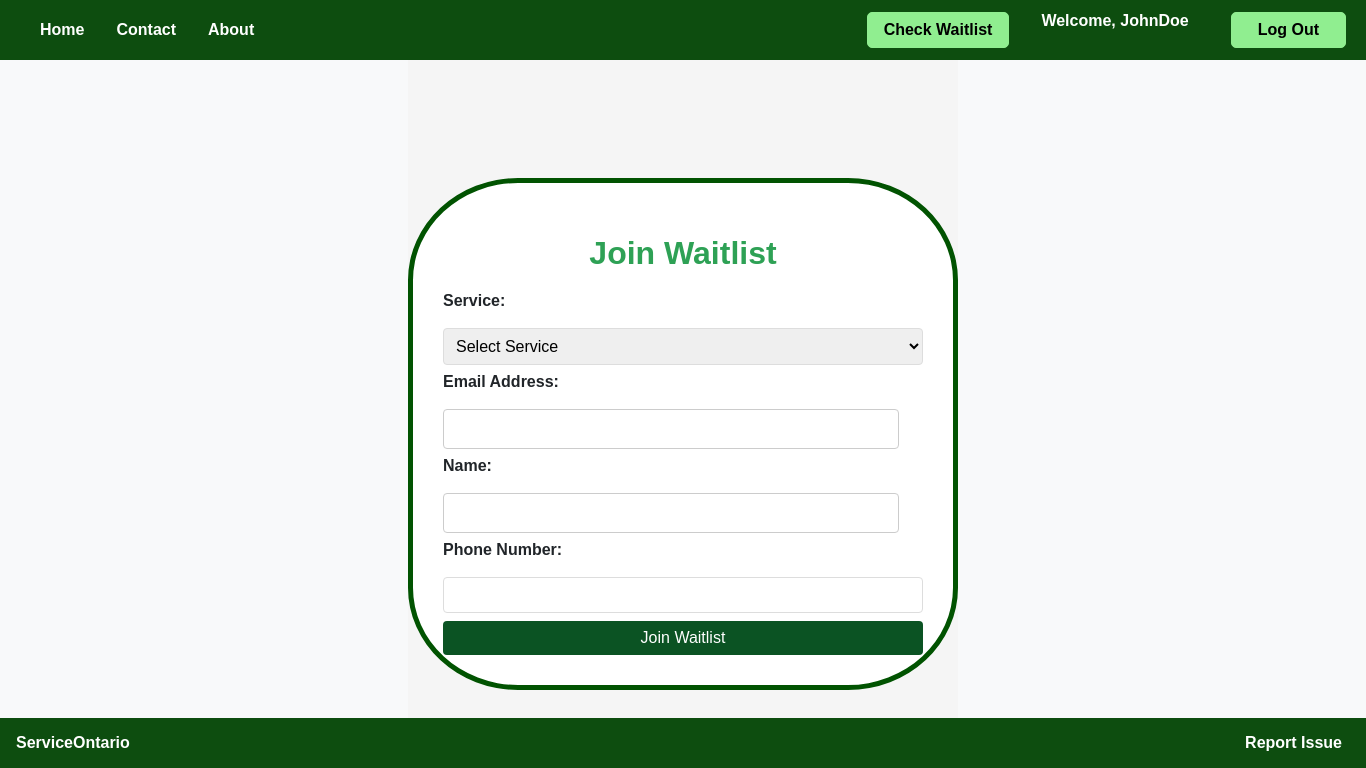
Test: JoinWaitList Component › handles failed submission and displays error message
Select "Health Card Renewal" in the dropdown labelled "Service:" at (683, 346), box x1=443 y1=328 x2=923 y2=365
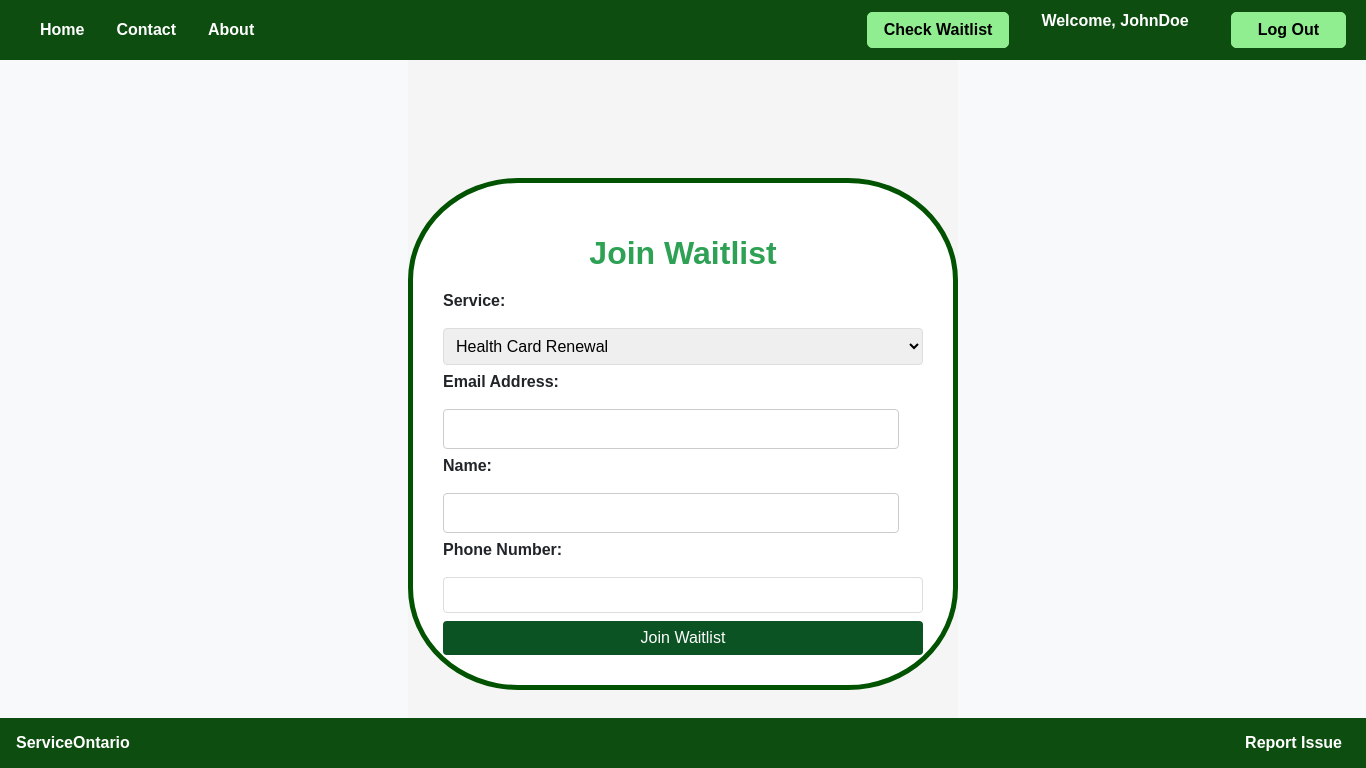
Type "test@example.com" into the field labelled "Email Address:" at (671, 429), box x1=443 y1=409 x2=899 y2=449
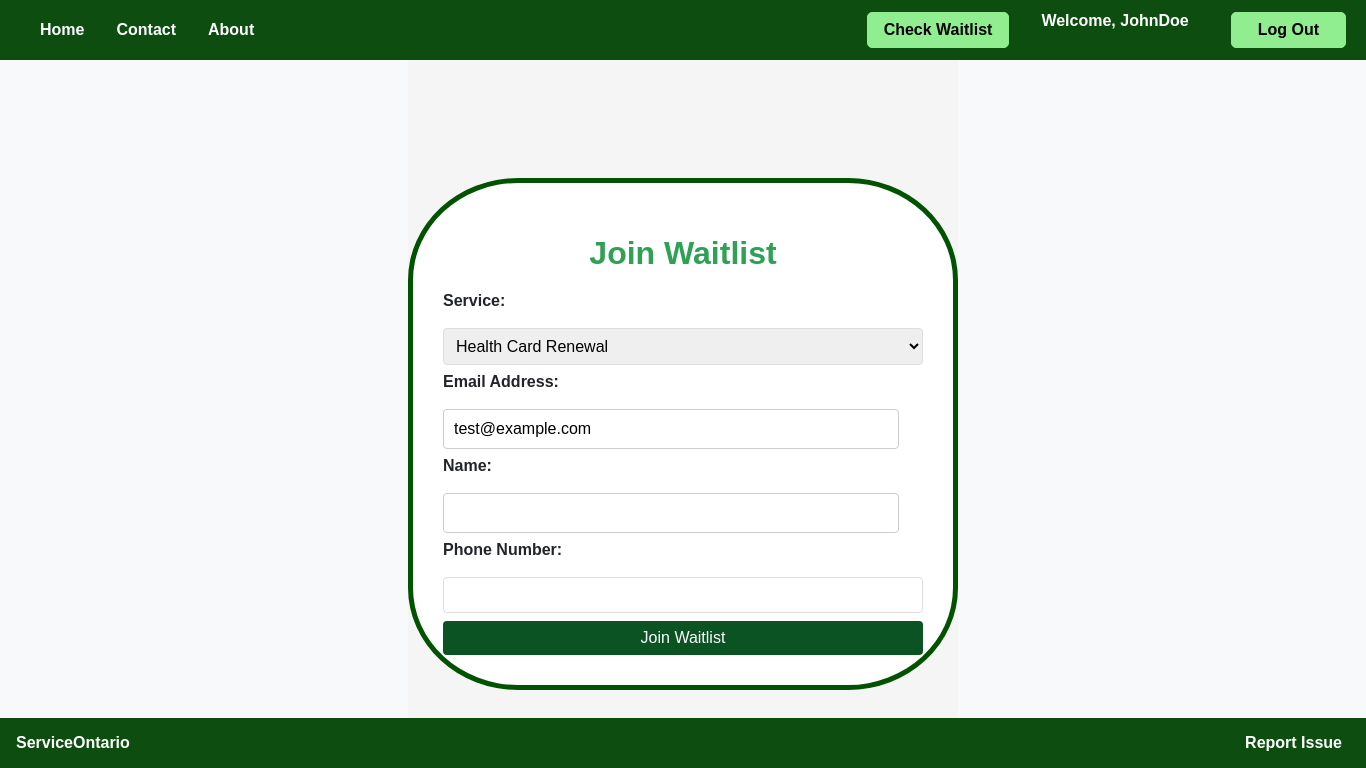
Type "John Doe" into the field labelled "Name:" at (671, 513), box x1=443 y1=493 x2=899 y2=533
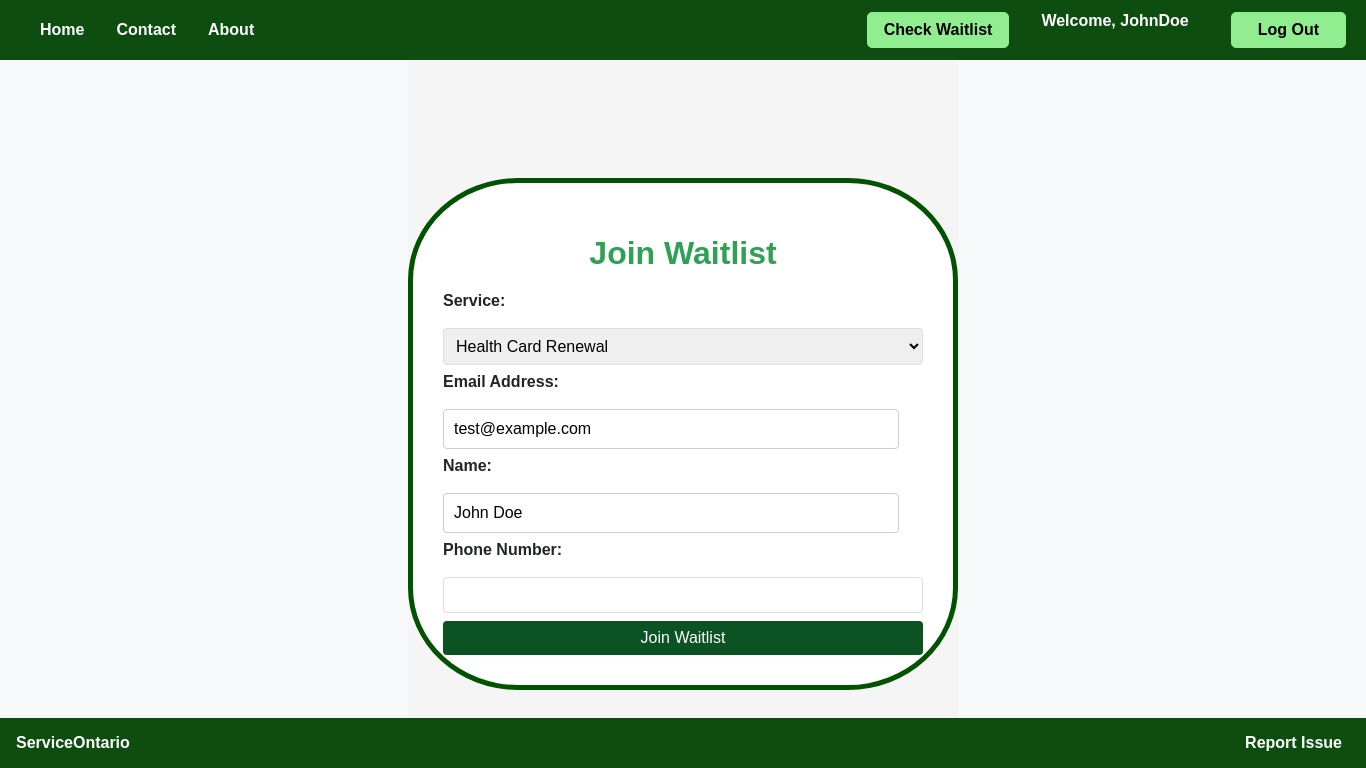
Type "1234567890" into the field labelled "Phone Number:" at (683, 595), box x1=443 y1=577 x2=923 y2=613
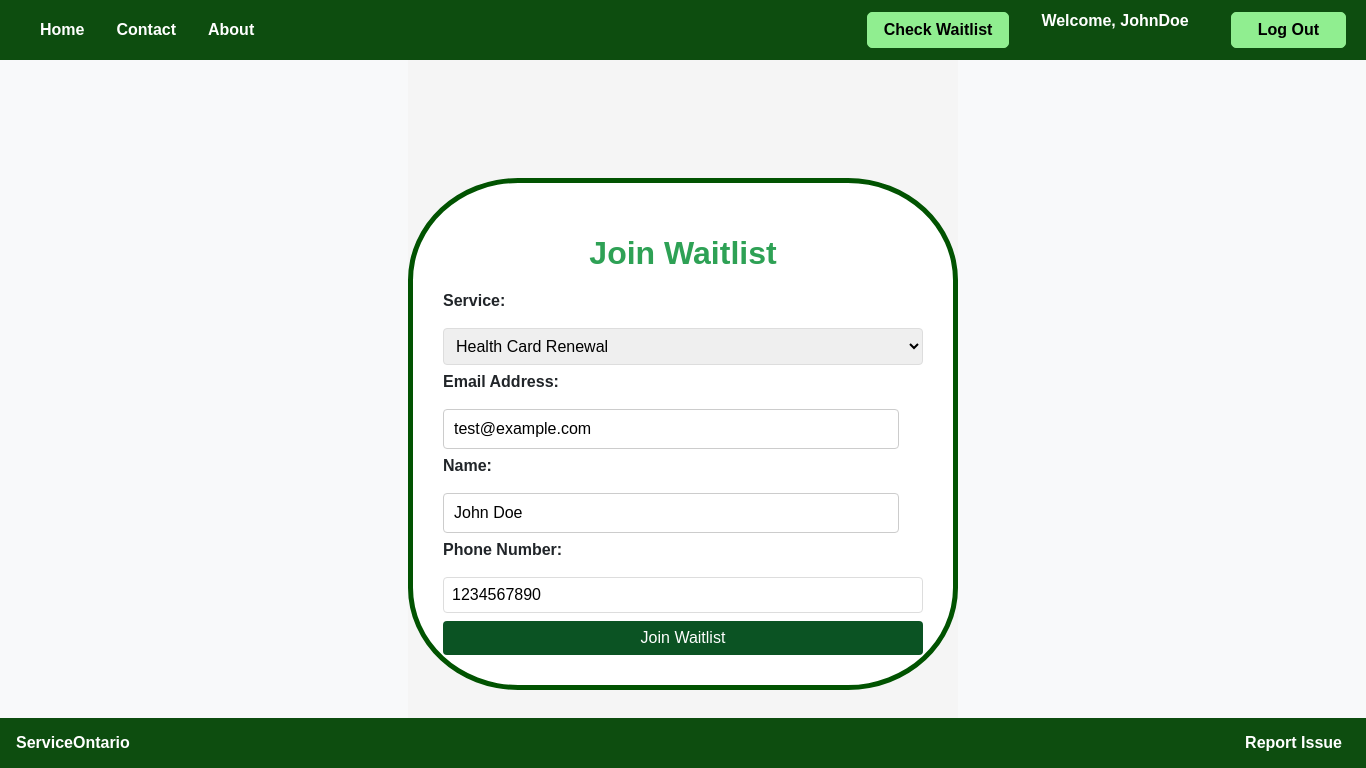
Click the button "Join Waitlist" at (683, 638), box x1=443 y1=621 x2=923 y2=655
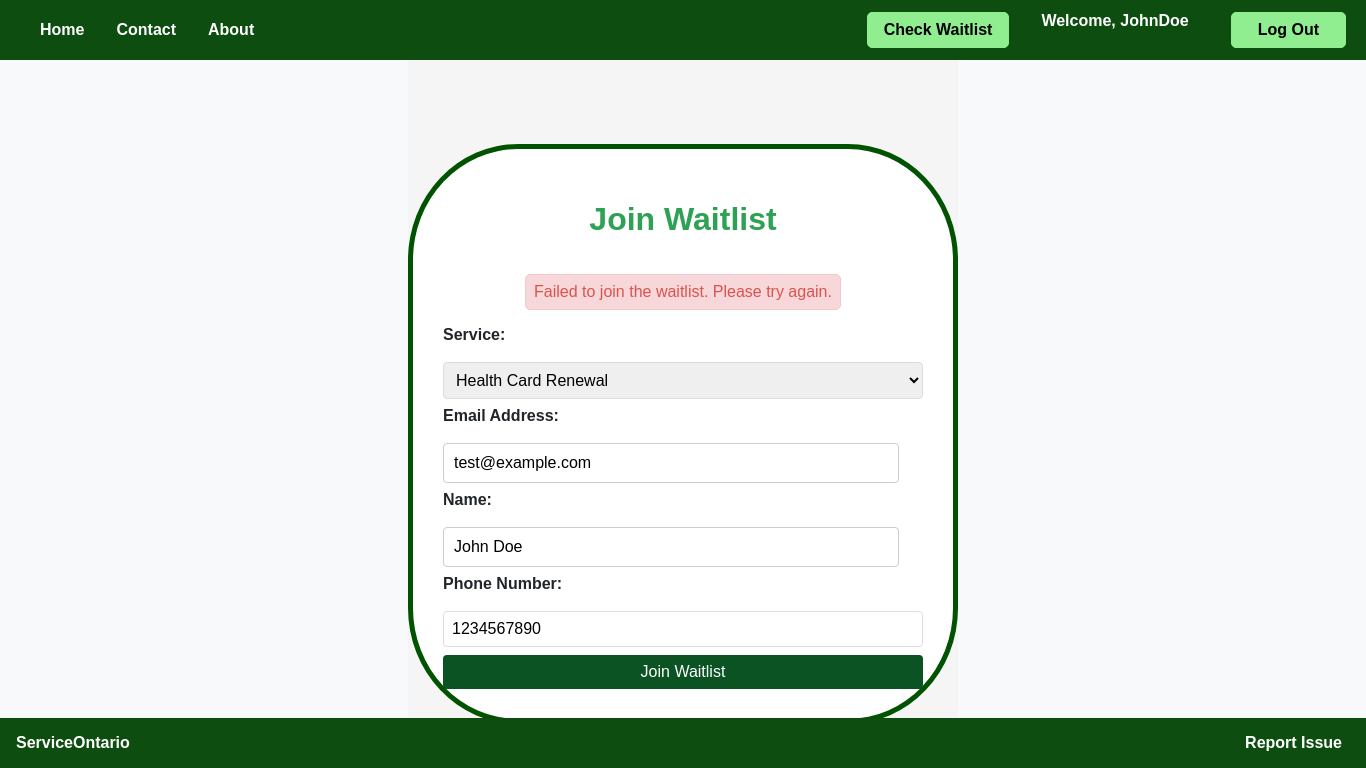
Expected: the text "Failed to join the waitlist. Please try again." is shown, x1=525 y1=274 x2=841 y2=310
